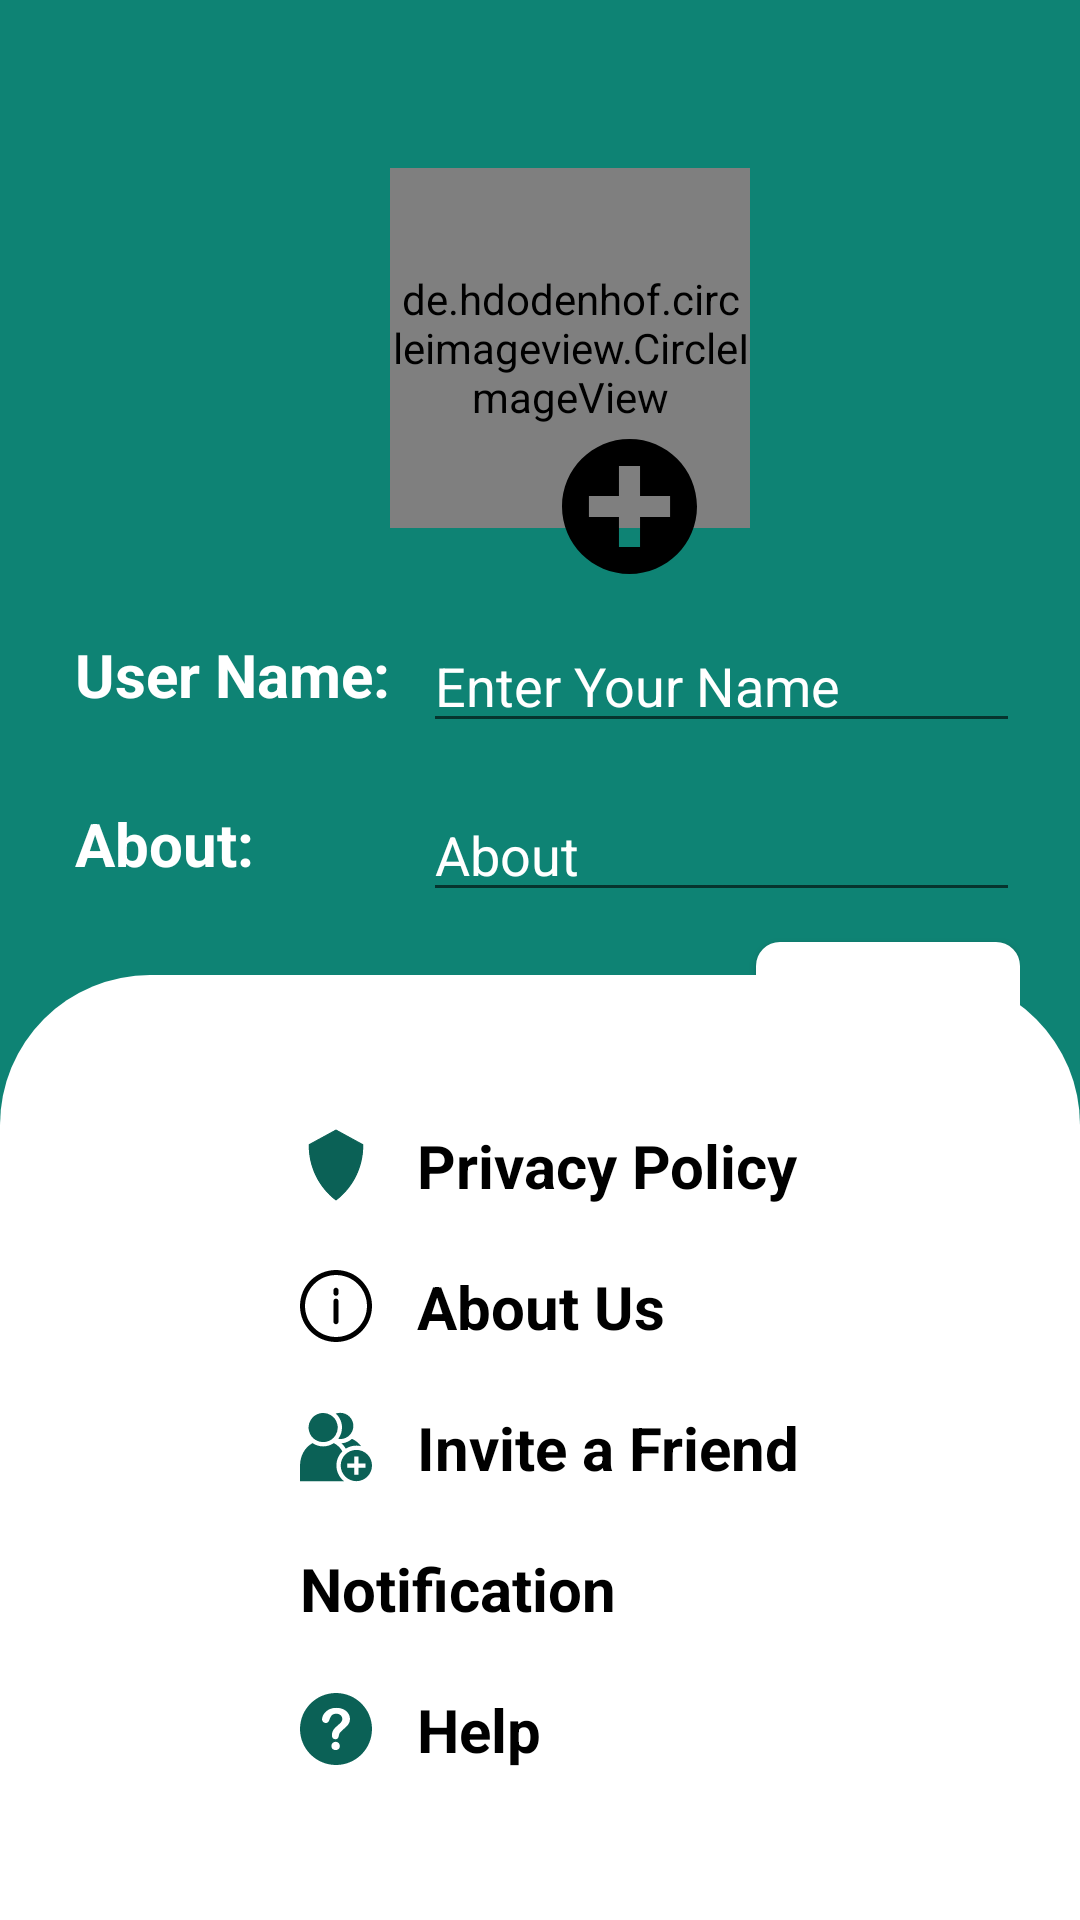

Icon click points for this 1080px×1920px phone screenshot, format [x,y]:
addpic: [629,506]
